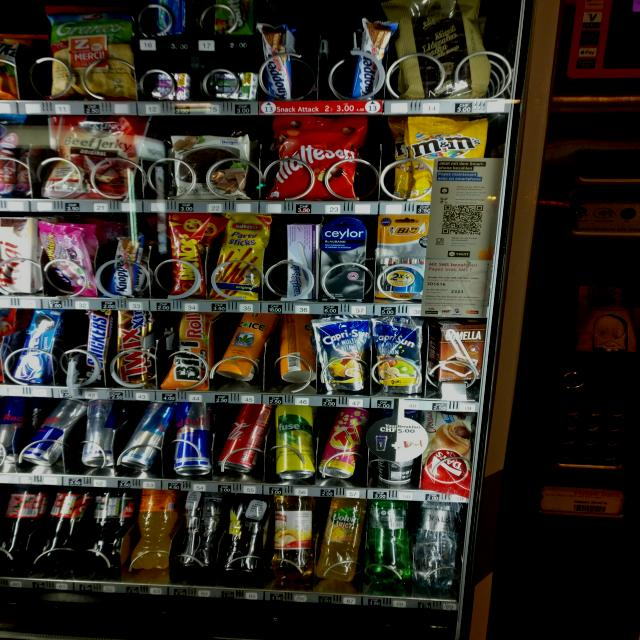7days_croissantschoko_packung_80_1_0000000000003: (419, 412, 472, 491)
airwaves_menthoneucalyptus_riegel_14_1_50173167: (148, 0, 188, 34)
bifi_roll__50__4251097402635: (163, 308, 214, 389)
c-swiss_dosenabisicetea__33__9120025930135: (220, 313, 280, 380), (276, 313, 318, 380)
caprisun_multivitamin__20__4000177605004: (314, 316, 374, 394), (373, 317, 423, 393)
coke__dose_33__54491472: (220, 400, 268, 476)
coke__flasche_50__54491472: (39, 483, 90, 570), (0, 482, 51, 565), (95, 487, 139, 565)
comella_schokodrink__33__7613100037253: (429, 318, 486, 386)
fanta___50__40822938: (136, 488, 174, 568)
fini_jellykisses_packung_80_1_8410525116704: (39, 224, 96, 296)
fuse_lemon__50__5449000235947: (222, 493, 267, 576)
fuse_lemon_dose_33__5449000235947: (271, 402, 319, 484)
fuse_peach__50__5449000236623: (175, 489, 226, 577)
jacklinks_beefjerkyorginal__25__4047751730219: (42, 114, 149, 200)
jlbrichard_gauffre__90__5410495002000: (396, 0, 492, 96)
kagi___50__7610046000259: (0, 215, 34, 292)
knoppers_riegel____4035800488808: (353, 18, 396, 99), (255, 23, 292, 103), (107, 231, 143, 298)
lorenz_nicnacs__40__4018077798818: (165, 208, 206, 298)
malburner_partysticks__40__7610200279682: (216, 212, 265, 300)
maltesers___100__5000159023061: (270, 113, 362, 200)
mnms_gelb__45__40111445: (399, 113, 492, 199)
oreo___66__84100733: (16, 307, 62, 383)
ramseier_schorle__50__7610057012456: (271, 494, 313, 578)
redbull___33__90162909: (25, 394, 80, 466), (119, 398, 169, 469), (171, 400, 214, 475), (82, 398, 120, 472), (0, 397, 26, 464)
skittles_sour_riegel_51_1_0000000000004: (212, 0, 254, 34)
snickers___50__5000159461122: (76, 308, 110, 387)
stimorol_spearmint_riegel_14_1_0000000000005: (205, 67, 256, 101)
stimorol_wildcherry_riegel_14_1_57060330: (147, 69, 192, 102)
tiki_himbeer_brause__50__00000000009342: (321, 402, 367, 482)
twix___50__5000159459228: (113, 310, 151, 387)
valser_classic__50__76404160: (360, 497, 411, 582)
valser_still__50__7610335002575: (410, 498, 459, 591)
volvic_pinapple__50__305764335648: (316, 495, 365, 581)
zweifel_graneochilli__100__7610095184009: (46, 2, 138, 94)
